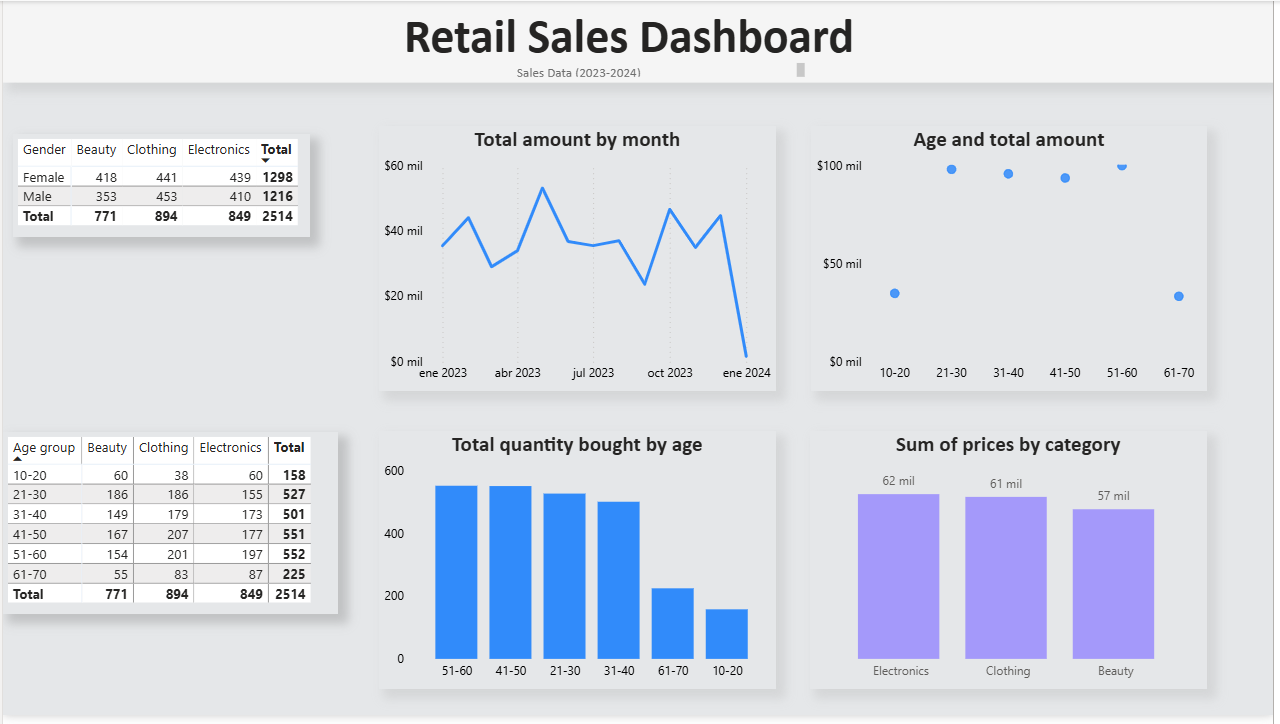

This screenshot's page, from the dashboard's own definition file:
{"tool":"powerbi","page":{"name":"Página 2","canvas":[1280,720],"ordinal":1},"visuals":[{"type":"columnChart","title":"Sum of prices by category","fields":{"Category":["retail_sales_dataset__2.Product Category"],"Y":["Sum(retail_sales_dataset__2.Price per Unit)"]},"box":[813.5,433.4,399.7,259.7],"z":0},{"type":"lineChart","title":"Total amount by month ","fields":{"Y":["Sum(retail_sales_dataset__2.Total_amount)"],"Category":["Calendario.Date.Variación.Jerarquía de fechas.Año","Calendario.Date.Variación.Jerarquía de fechas.Mes"]},"box":[379,126,400.1,267.1],"z":1000},{"type":"scatterChart","title":"Age and total amount","fields":{"X":["retail_sales_dataset__2.Age group"],"Y":["Sum(retail_sales_dataset__2.Total Amount)"]},"box":[814.4,126,399.1,267.1],"z":2000},{"type":"columnChart","title":"Total quantity bought by age ","fields":{"Category":["retail_sales_dataset__2.Age group"],"Y":["Sum(retail_sales_dataset__2.Quantity)"]},"box":[379,433.4,399.7,259.7],"z":3000},{"type":"shape","box":[0,0,1280,82],"z":4000},{"type":"textbox","box":[10.1,0,1241.5,74.9],"z":5000},{"type":"textbox","box":[513,57.7,299.5,24.3],"z":6000},{"type":"pivotTable","fields":{"Rows":["retail_sales_dataset__2.Age group"],"Columns":["retail_sales_dataset__2.Product Category"],"Values":["Sum(retail_sales_dataset__2.Quantity)"]},"box":[0,434.4,337.6,183.4],"z":7000},{"type":"pivotTable","fields":{"Rows":["retail_sales_dataset__2.Gender"],"Columns":["retail_sales_dataset__2.Product Category"],"Values":["Sum(retail_sales_dataset__2.Quantity)"]},"box":[10.1,134,299.3,103.8],"z":8000}]}

Visuals, with their boxes in screenshot pixels (x1, y1, x2, y2), scaled from the page's 1280x720 canvas onto the 1280x724 screenshot:
"Sum of prices by category" columnChart: 814/436/1213/697
"Total amount by month " lineChart: 379/127/779/395
"Age and total amount" scatterChart: 814/127/1214/395
"Total quantity bought by age " columnChart: 379/436/779/697
shape: 0/0/1279/82
textbox: 10/0/1252/75
textbox: 513/58/812/82
pivotTable - retail_sales_dataset__2.Age group x retail_sales_dataset__2.Product Category: 0/437/338/621
pivotTable - retail_sales_dataset__2.Gender x retail_sales_dataset__2.Product Category: 10/135/309/239
